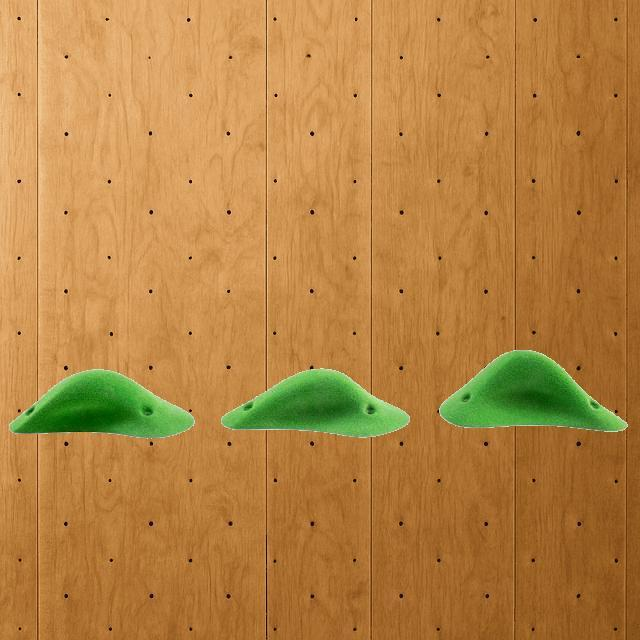Jug: (438, 348, 628, 432), (220, 367, 410, 438), (8, 368, 194, 438)
